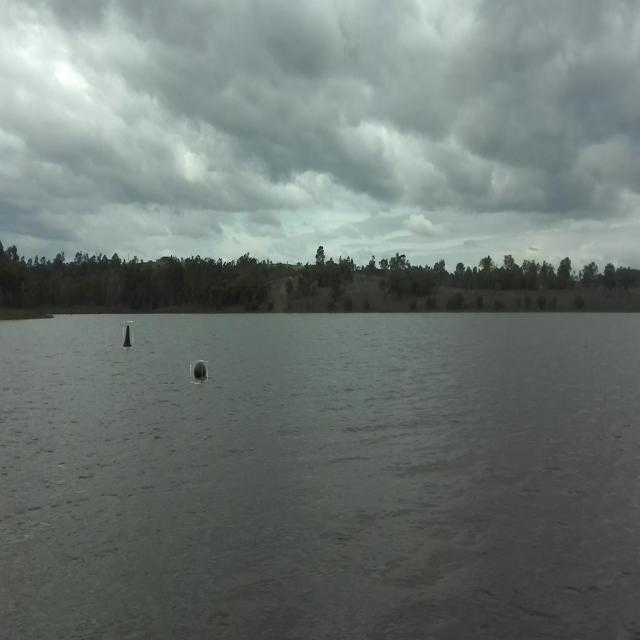Black_Buoy: (124, 308, 137, 358), (194, 363, 208, 393)
